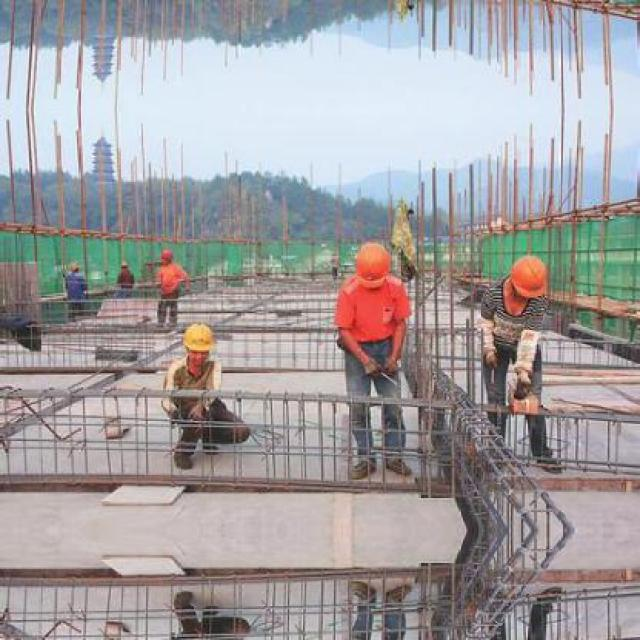helmet: (501, 252, 548, 314), (352, 240, 396, 288), (180, 318, 217, 366), (158, 246, 177, 268)
